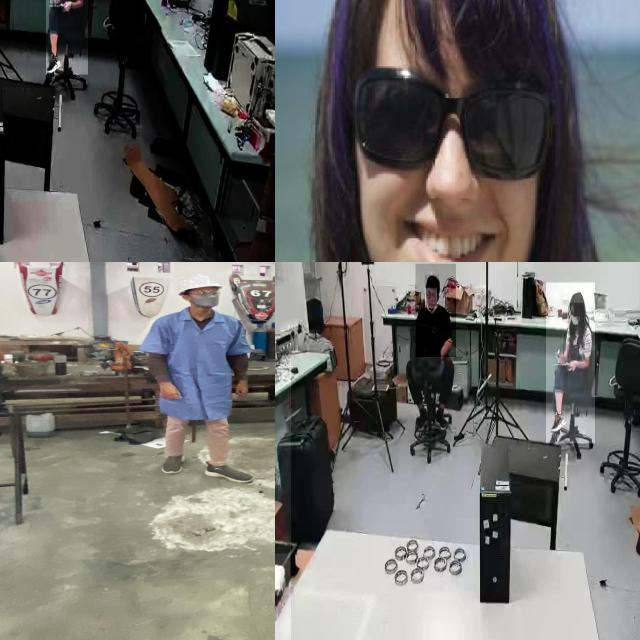face_mask: (189, 287, 223, 308), (566, 305, 584, 334)
face_nomask: (355, 62, 535, 262), (425, 288, 437, 309)
glasses: (340, 54, 559, 198), (182, 288, 222, 298)
hand_glove: (275, 553, 290, 596)
hand_noglove: (154, 379, 188, 403), (232, 380, 255, 398), (566, 358, 577, 371), (60, 0, 71, 12), (558, 351, 568, 363), (50, 0, 61, 4)
head_helmet: (175, 274, 221, 292)
head_nohelmet: (336, 0, 579, 28), (569, 290, 584, 304), (425, 274, 439, 288)
person: (280, 0, 640, 262), (139, 272, 269, 486), (546, 282, 596, 444), (416, 264, 456, 358), (45, 0, 88, 75)
shoes: (202, 459, 255, 486), (157, 450, 192, 475), (548, 409, 567, 436), (434, 405, 450, 433), (46, 50, 62, 76), (416, 406, 430, 433)
